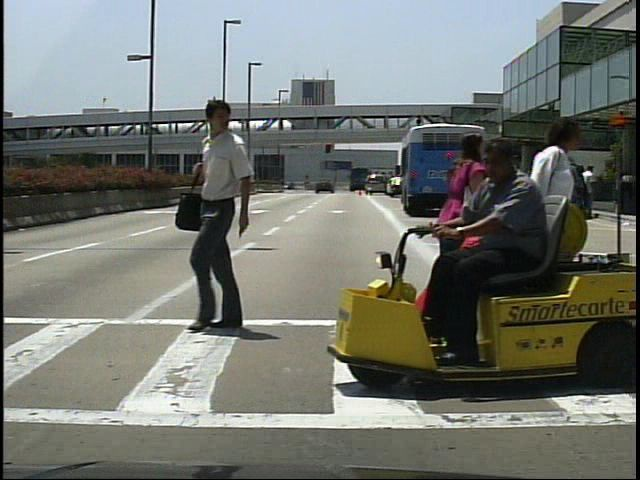person: (430, 141, 569, 376), (171, 94, 273, 334), (501, 110, 587, 365), (431, 125, 495, 356), (483, 190, 522, 324), (582, 164, 602, 218), (489, 163, 509, 212), (500, 166, 518, 218)
